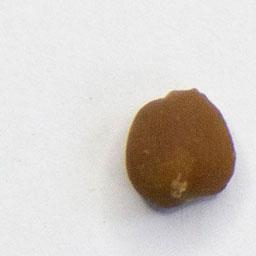defect: (121, 85, 239, 211)
